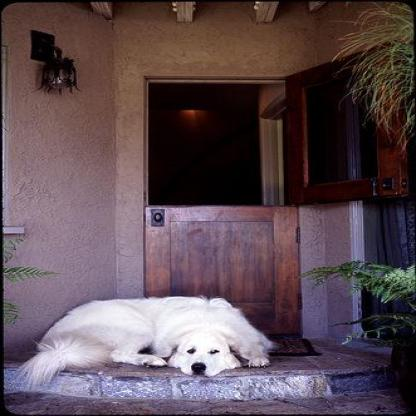Great_Pyrenees: (0, 296, 279, 387)
